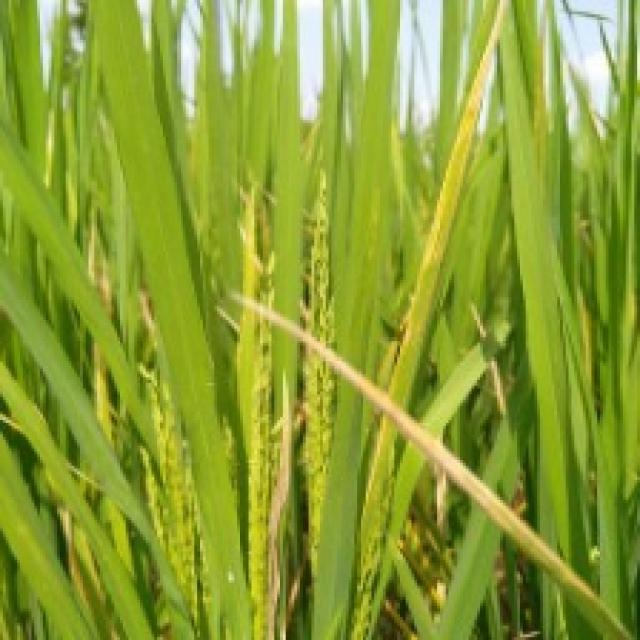Rice___Bacterial_Leaf_Blight: (227, 284, 636, 637)
